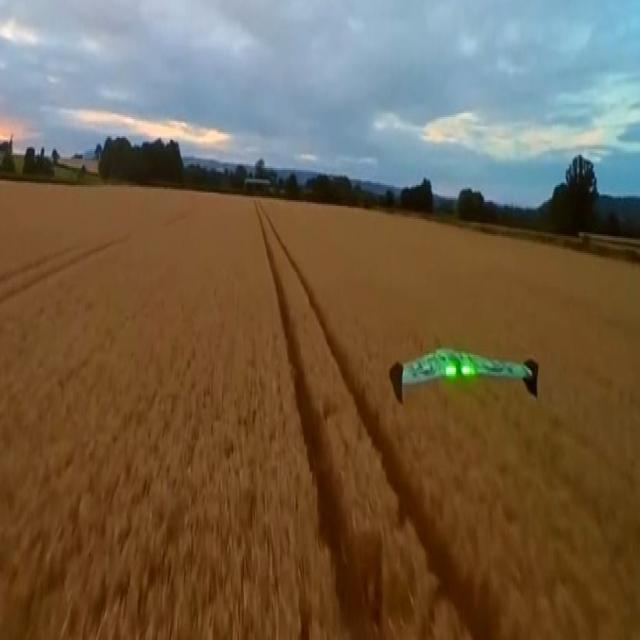iha: (374, 361, 557, 386)
